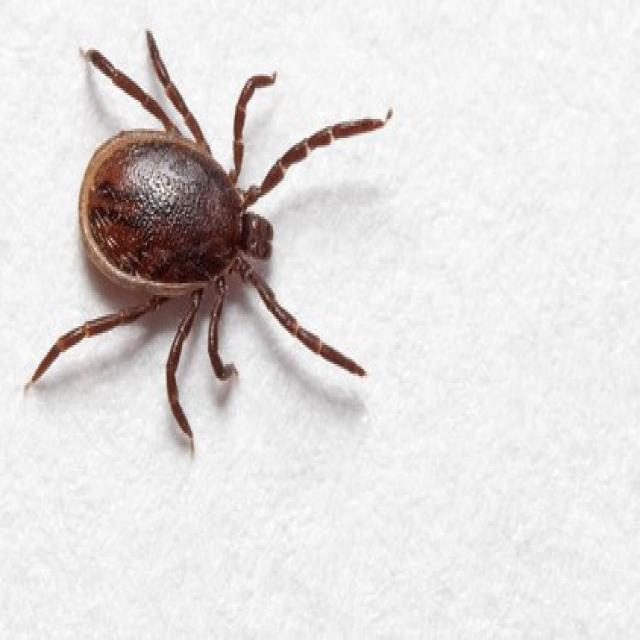Ixodes Ricinus-M: (29, 31, 391, 445)
